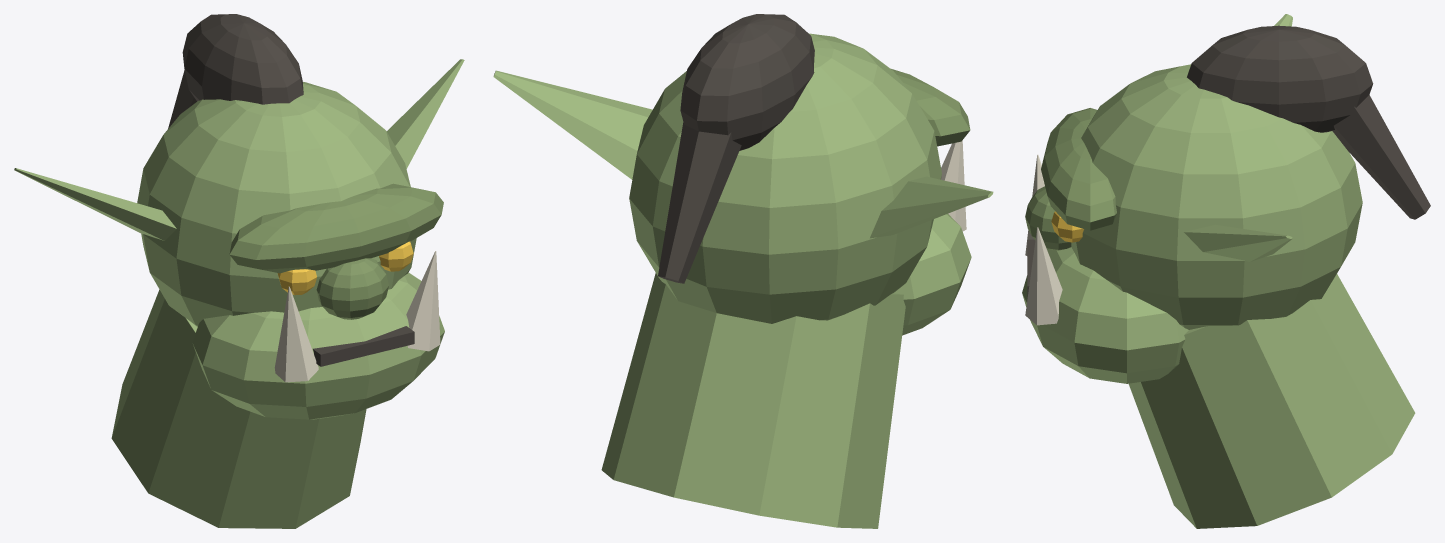
Rendered from SM_Orc_Head.fbx.
3 renders of one model, left to right at view 1: azimuth 30°, elevation 25°; view 2: azimuth 150°, elevation 25°; view 3: azimuth 270°, elevation 25°, orthographic. The views are drawn at different scales.
Parts seen in each view (by area): view 1: SM_Orc_Head; view 2: SM_Orc_Head; view 3: SM_Orc_Head.
Part boxes in pixels (<box>): SM_Orc_Head: <box>14,14,464,528</box>; SM_Orc_Head: <box>493,14,993,528</box>; SM_Orc_Head: <box>1022,14,1430,528</box>.
Bounding box in the file's own units: 0.5021 × 0.5005 × 0.39.
